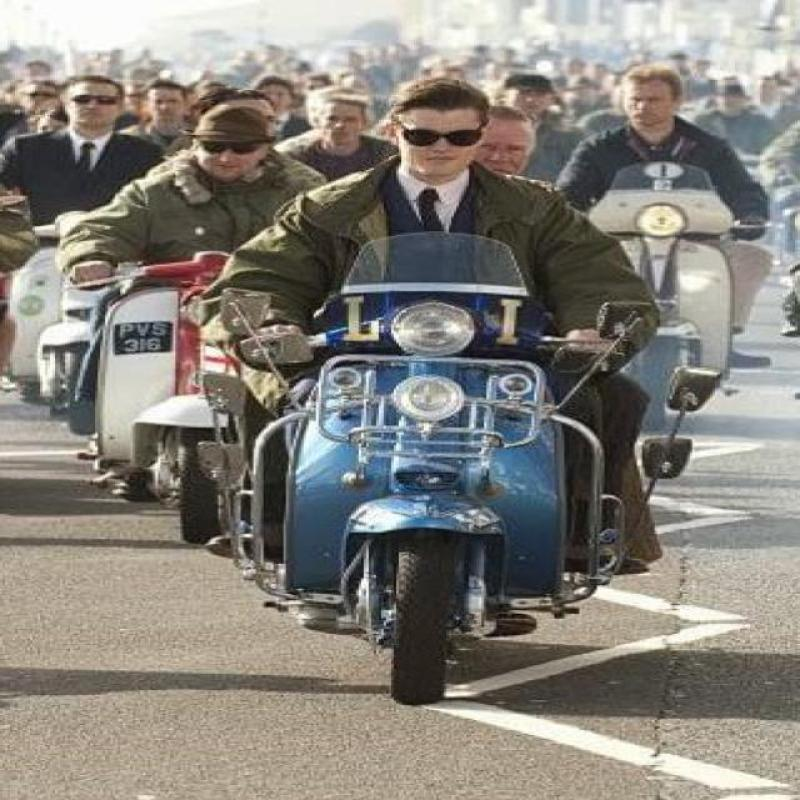nohelmet: (370, 70, 506, 180), (177, 99, 282, 184), (622, 64, 696, 140), (66, 68, 120, 131)
